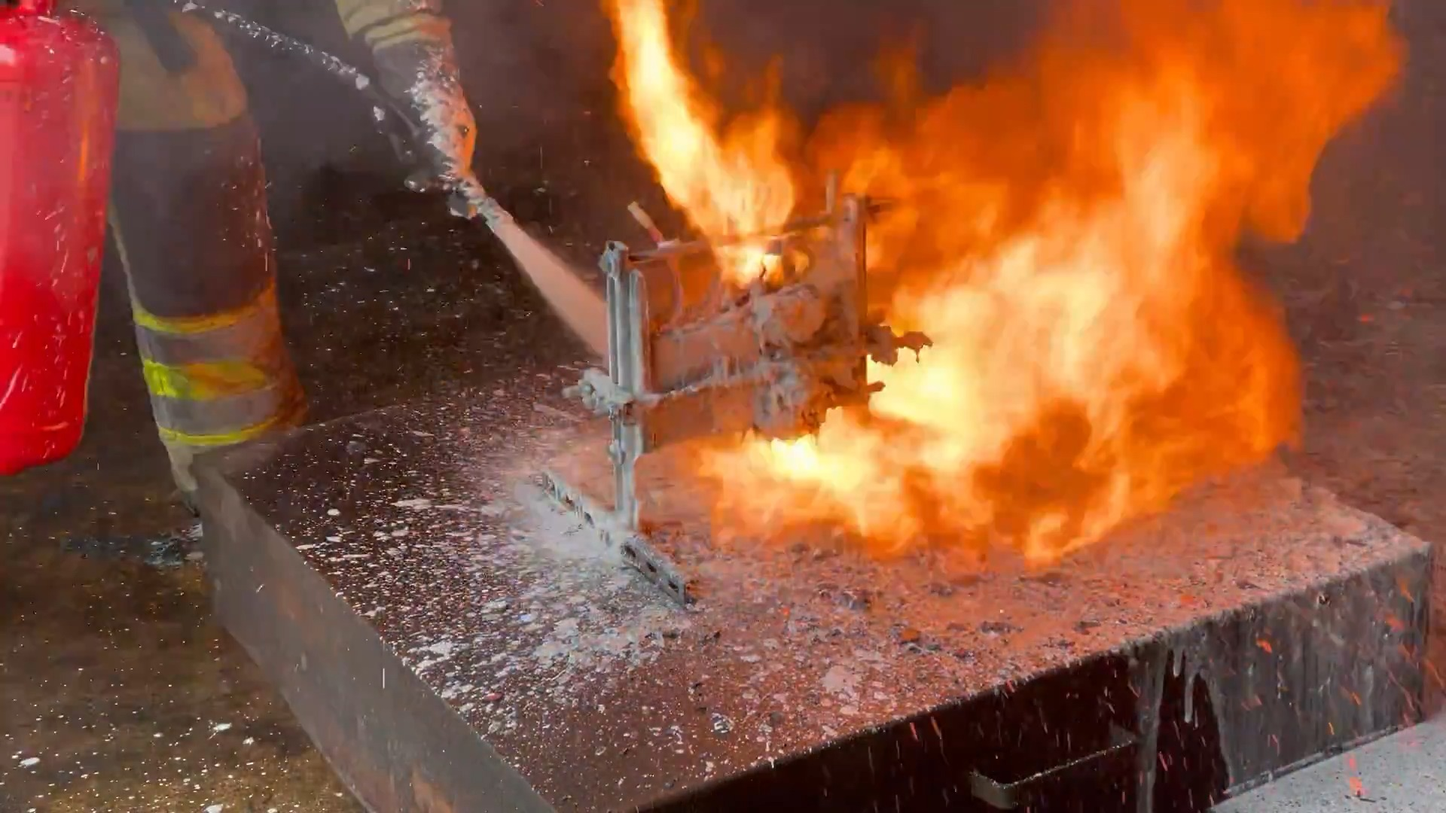fire: (605, 0, 1414, 579)
